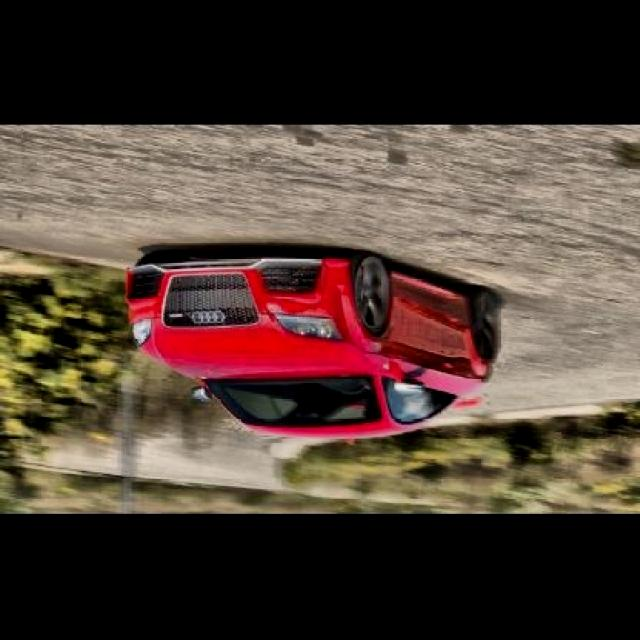red: (130, 257, 500, 441)
